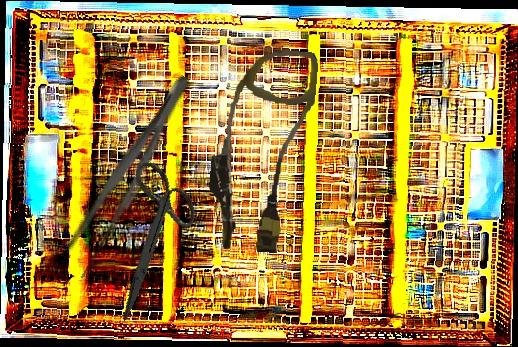Cannula: (203, 44, 320, 256)
Dressing Forceps: (54, 66, 202, 283)
Iris Scissors: (83, 153, 219, 321)
